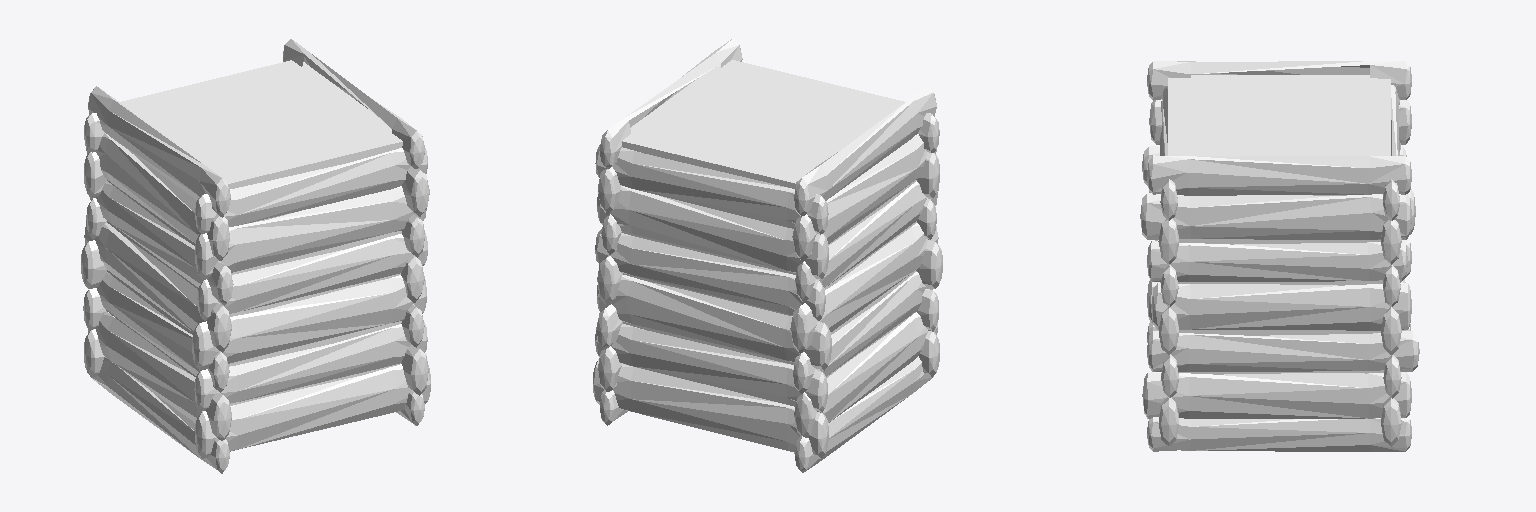
Rendered from Border.obj.
3 renders of one model, left to right at view 1: azimuth 30°, elevation 25°; view 2: azimuth 150°, elevation 25°; view 3: azimuth 270°, elevation 25°, orthographic.
Visible parts, largest first — view 1: SM_Bld_Base_01_Mesh; view 2: SM_Bld_Base_01_Mesh; view 3: SM_Bld_Base_01_Mesh.
Boxes of the visible parts, x1,y1,x2,y2 form: SM_Bld_Base_01_Mesh: [81, 39, 430, 473]; SM_Bld_Base_01_Mesh: [593, 38, 942, 472]; SM_Bld_Base_01_Mesh: [1140, 61, 1419, 451].
Size of the model in its own units: 1.98 by 2.38 by 2.04.